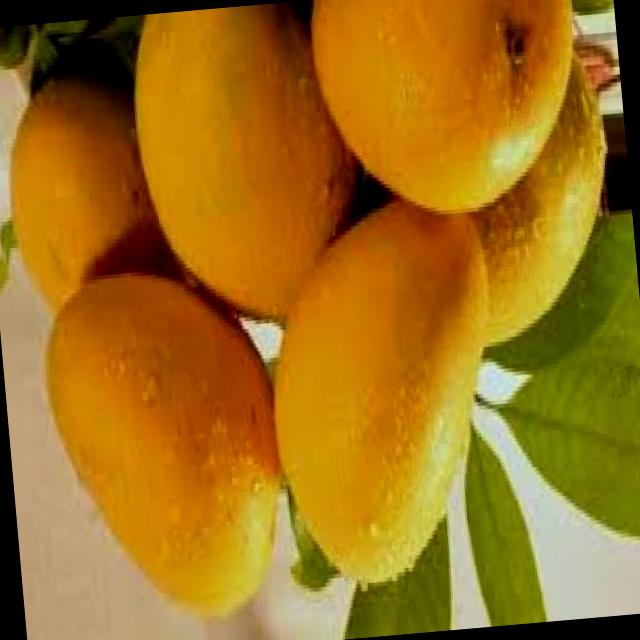Mango: (262, 197, 513, 591), (38, 270, 292, 634), (129, 0, 372, 327), (308, 0, 585, 224), (456, 52, 624, 347), (0, 69, 171, 318)
